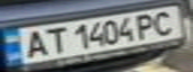0: (103, 17, 121, 45)
1: (69, 20, 90, 51)
4: (115, 15, 139, 43), (87, 19, 106, 47)
A: (15, 28, 51, 60)
C: (148, 8, 184, 36)
P: (130, 11, 163, 39)
T: (39, 25, 69, 55)
